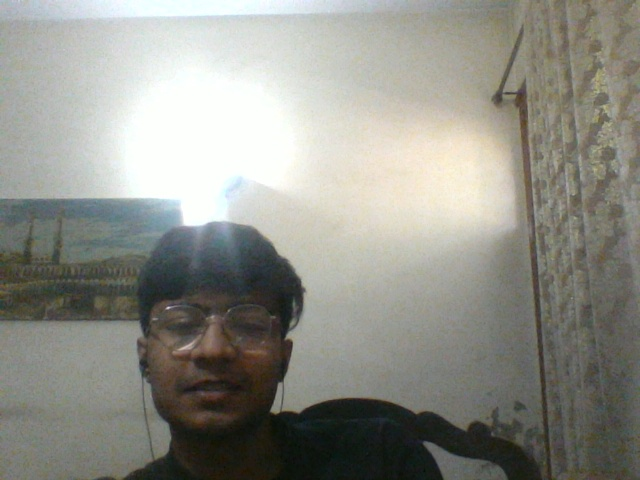happy: (160, 282, 269, 422)
